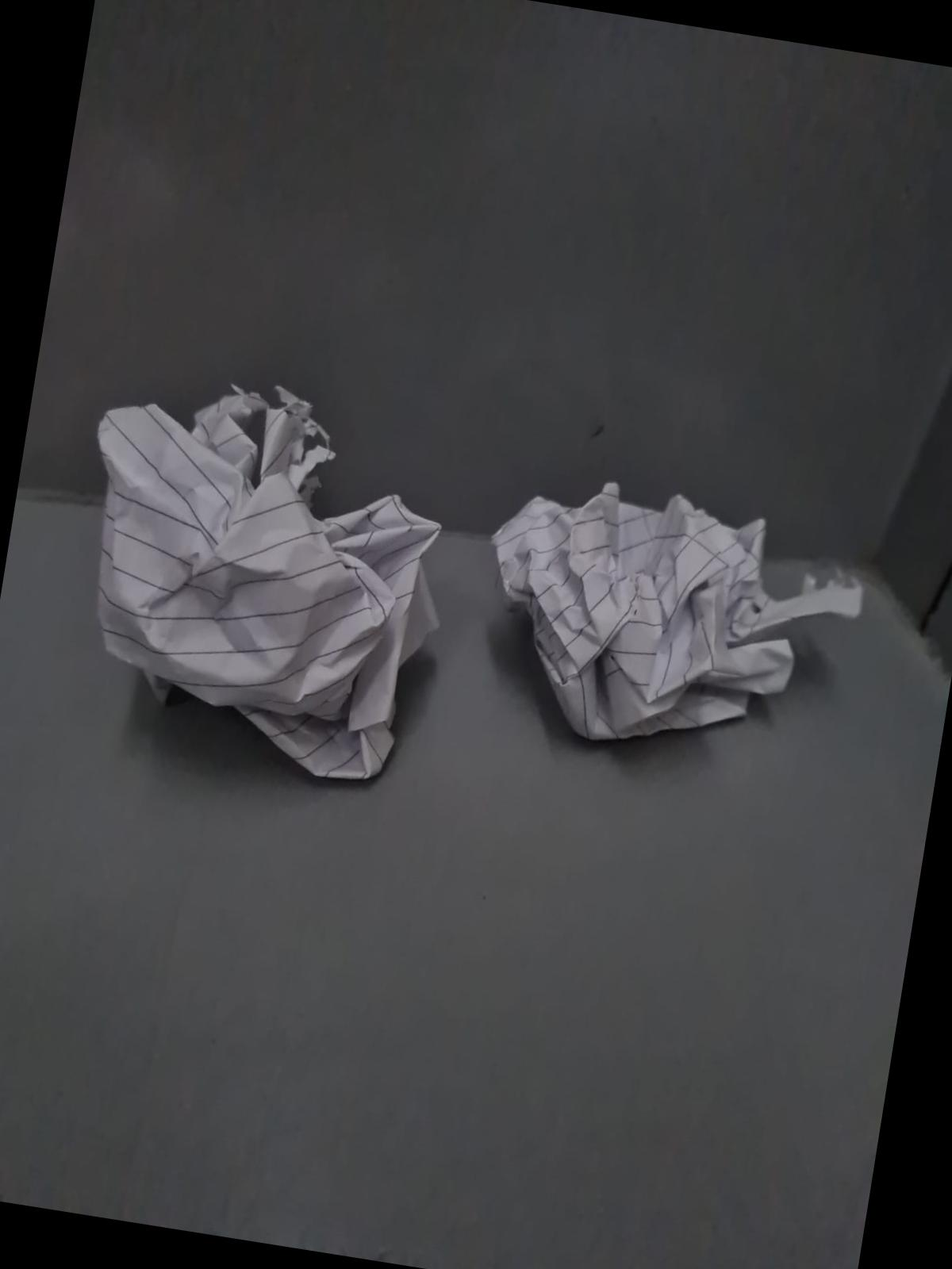Kertas: (74, 373, 441, 797), (480, 473, 803, 746)
